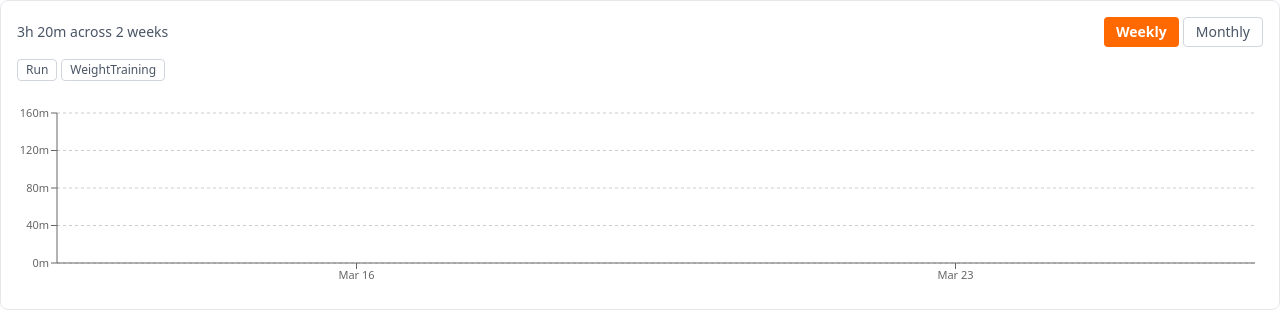
it: ActivityTrendsChart — US2 toggle › clicking Weekly after Monthly restores weekly view
Click the button "Monthly" at (1223, 32), box [1183,17,1263,47]
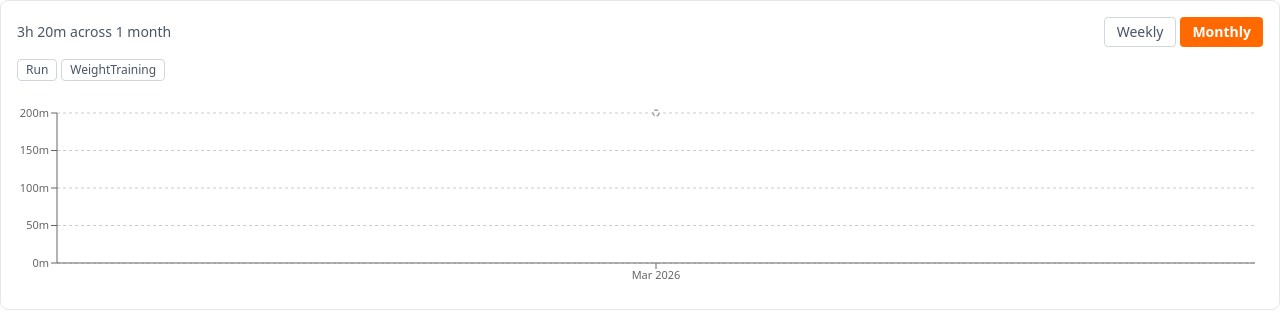
Click the button "Weekly" at (1140, 32), box [1104,17,1176,47]
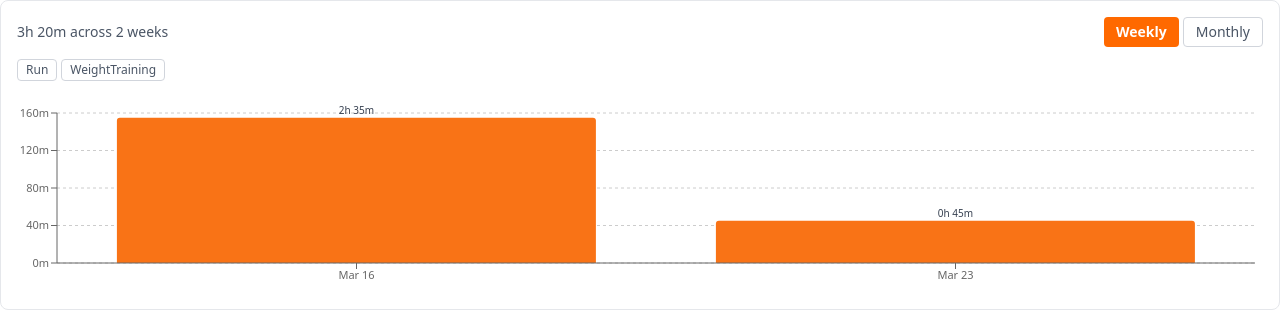
Expected: the text "3h 20m across 2 weeks" is shown, [17,22,168,42]
